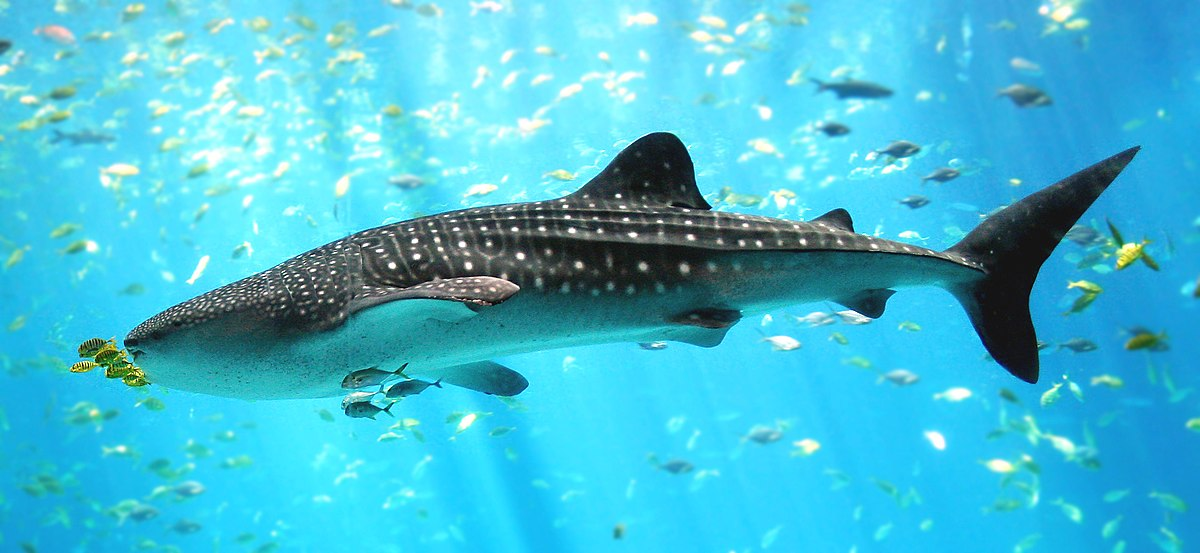shark: (117, 120, 1155, 424)
